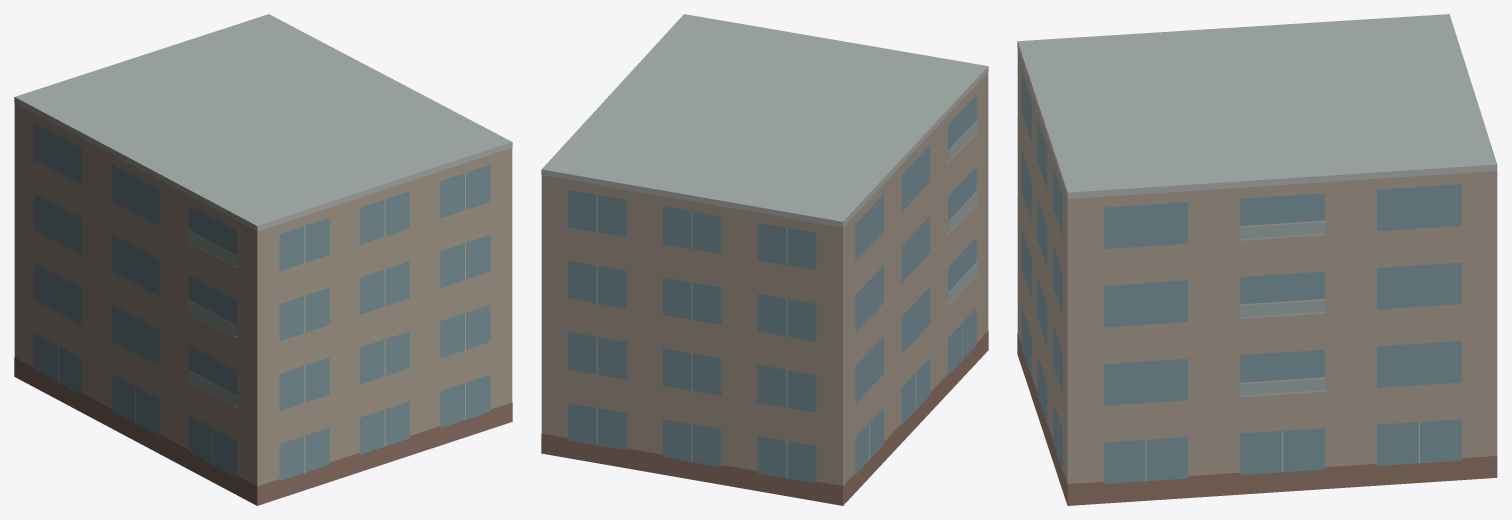
Rendered from survey-upis-32923826.glb.
3 renders of one model, left to right at view 1: azimuth 30°, elevation 25°; view 2: azimuth 150°, elevation 25°; view 3: azimuth 270°, elevation 25°, orthographic. The views are drawn at different scales.
Visible parts, largest first — view 1: survey-upis-32923826.tmp; view 2: survey-upis-32923826.tmp; view 3: survey-upis-32923826.tmp.
Boxes of the visible parts, <box> form: survey-upis-32923826.tmp: <box>14,14,512,505</box>; survey-upis-32923826.tmp: <box>541,14,988,505</box>; survey-upis-32923826.tmp: <box>1017,14,1497,505</box>.
Size of the model in its own units: 14.82 by 12.1 by 16.81.
